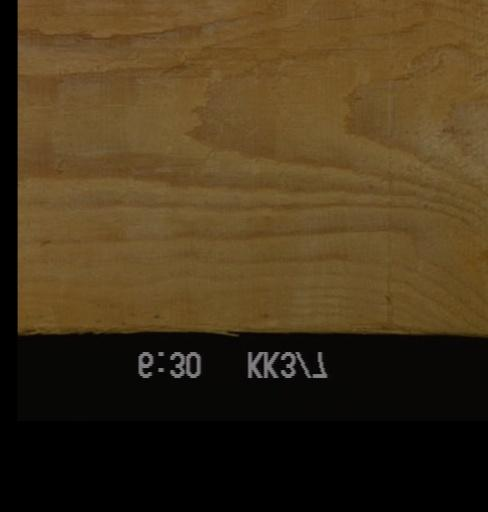wave: (17, 299, 375, 334)
